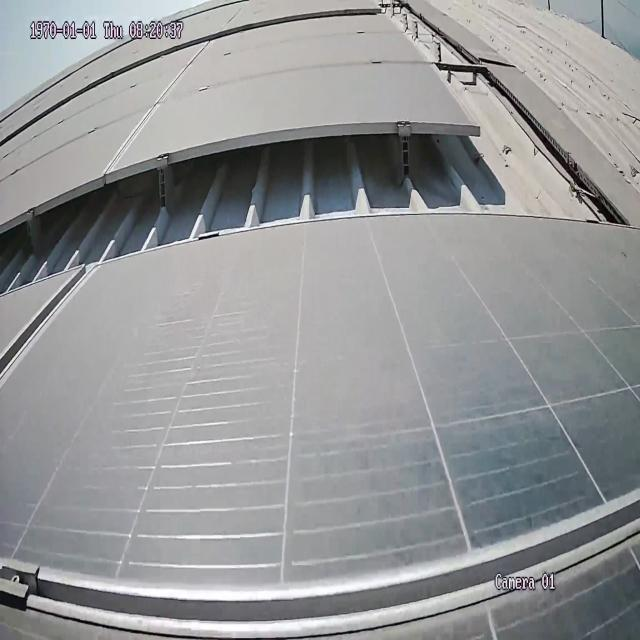interior panel: (0, 476, 640, 640)
outher panel: (0, 0, 640, 287)
